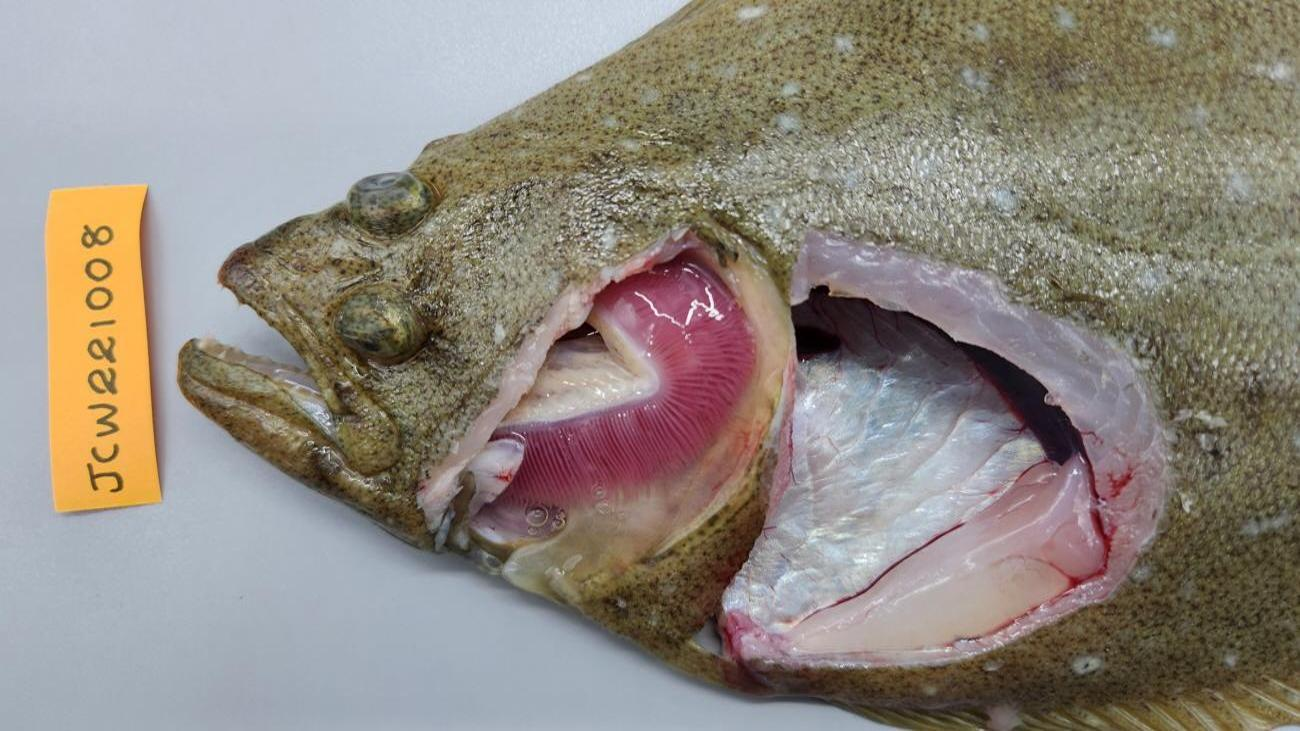POASN: (728, 296, 1044, 634)
POKIN: (915, 319, 1088, 469)
POREN: (785, 455, 1107, 657)
